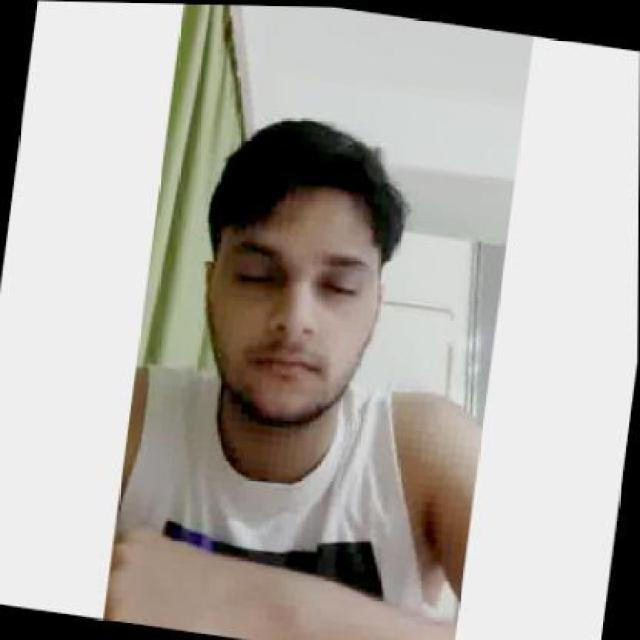inattentif: (182, 100, 406, 443)
